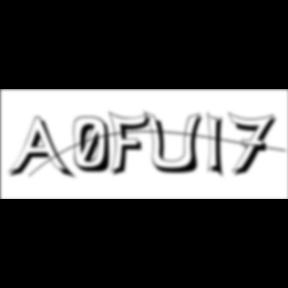0: (74, 115, 118, 174)
7: (228, 111, 282, 179)
A: (8, 116, 78, 182)
F: (108, 110, 156, 178)
I: (207, 110, 231, 182)
U: (144, 110, 208, 176)
